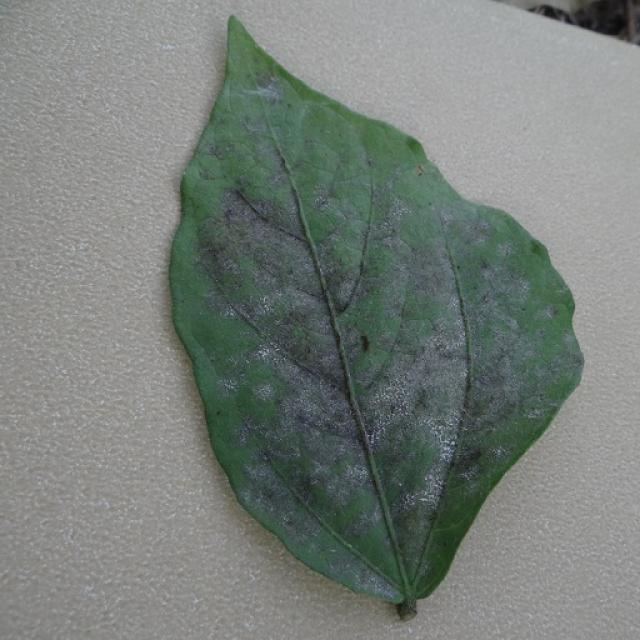Blackgram: (170, 18, 582, 616)
Powdery_Mildew: (229, 331, 374, 506), (454, 251, 559, 398), (362, 323, 456, 462), (225, 247, 328, 358), (469, 373, 570, 478), (388, 416, 460, 531), (384, 342, 464, 433), (504, 323, 576, 418), (236, 441, 310, 515), (308, 451, 368, 513), (484, 256, 539, 313), (365, 195, 407, 256), (428, 309, 469, 366), (447, 212, 498, 257), (418, 416, 456, 464), (351, 566, 393, 597), (490, 303, 524, 337), (332, 274, 360, 309), (246, 80, 281, 101), (251, 380, 277, 403), (215, 297, 239, 321), (523, 404, 549, 423), (219, 375, 240, 394), (254, 346, 275, 364), (543, 305, 557, 320), (368, 429, 378, 447), (259, 295, 272, 307), (418, 494, 432, 504), (261, 450, 271, 462), (329, 547, 338, 554)
